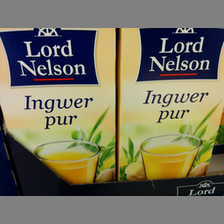tea: (1, 28, 117, 183), (116, 28, 224, 181)
